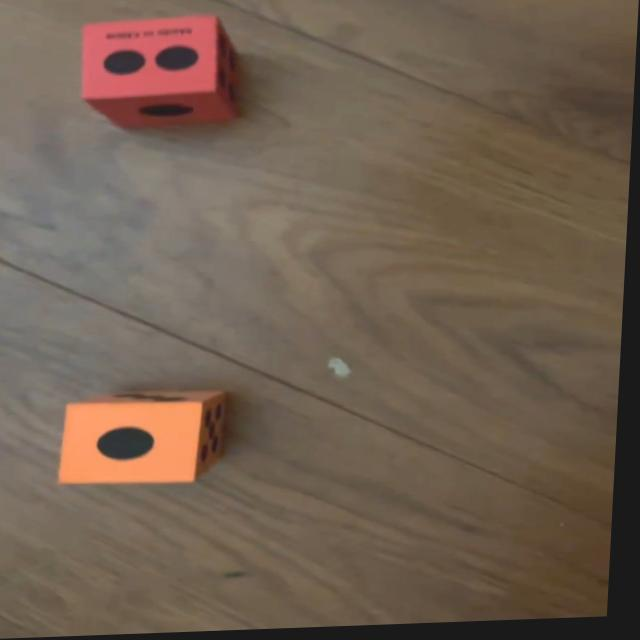red_block: (77, 16, 245, 132)
